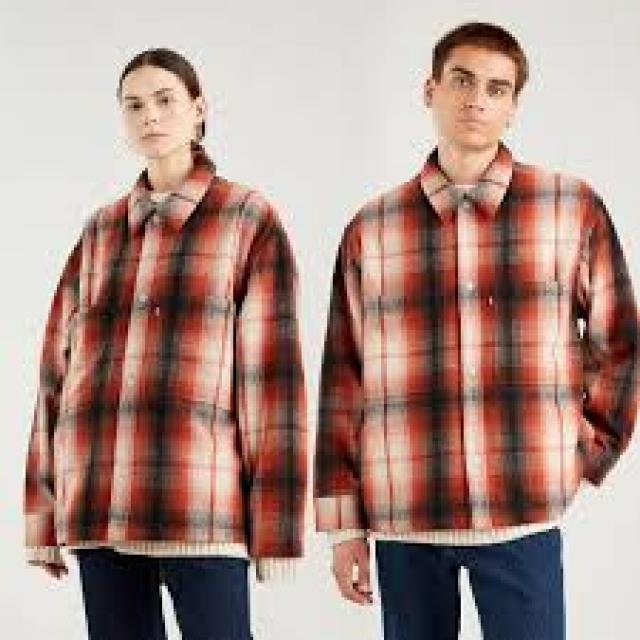plaid: (326, 156, 636, 534), (20, 166, 304, 550)
